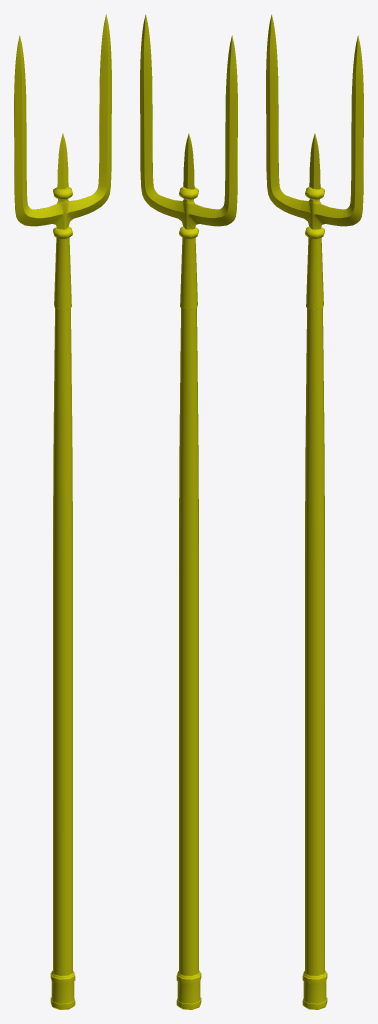
File: SPEAR005.FBX
The picture shows the model from 3 angles, left to right: view 1: azimuth 30°, elevation 25°; view 2: azimuth 150°, elevation 25°; view 3: azimuth 330°, elevation 25°; orthographic projection.
Visible parts, largest first — view 1: Spear005_Pole, Spear005_Spikes, Spear005_SpikesMiddle; view 2: Spear005_Pole, Spear005_Spikes, Spear005_SpikesMiddle; view 3: Spear005_Pole, Spear005_Spikes, Spear005_SpikesMiddle.
Part boxes in pixels (left/top/right/bottom): Spear005_Pole: left=50, top=226, right=75, bottom=1009; Spear005_Spikes: left=14, top=14, right=111, bottom=229; Spear005_SpikesMiddle: left=53, top=133, right=72, bottom=199; Spear005_Pole: left=176, top=226, right=201, bottom=1009; Spear005_Spikes: left=140, top=14, right=237, bottom=229; Spear005_SpikesMiddle: left=179, top=133, right=198, bottom=199; Spear005_Pole: left=302, top=226, right=327, bottom=1009; Spear005_Spikes: left=266, top=14, right=363, bottom=229; Spear005_SpikesMiddle: left=305, top=133, right=324, bottom=199.
Bounding box in the file's own units: 0.2049 × 1.96 × 0.0464.
